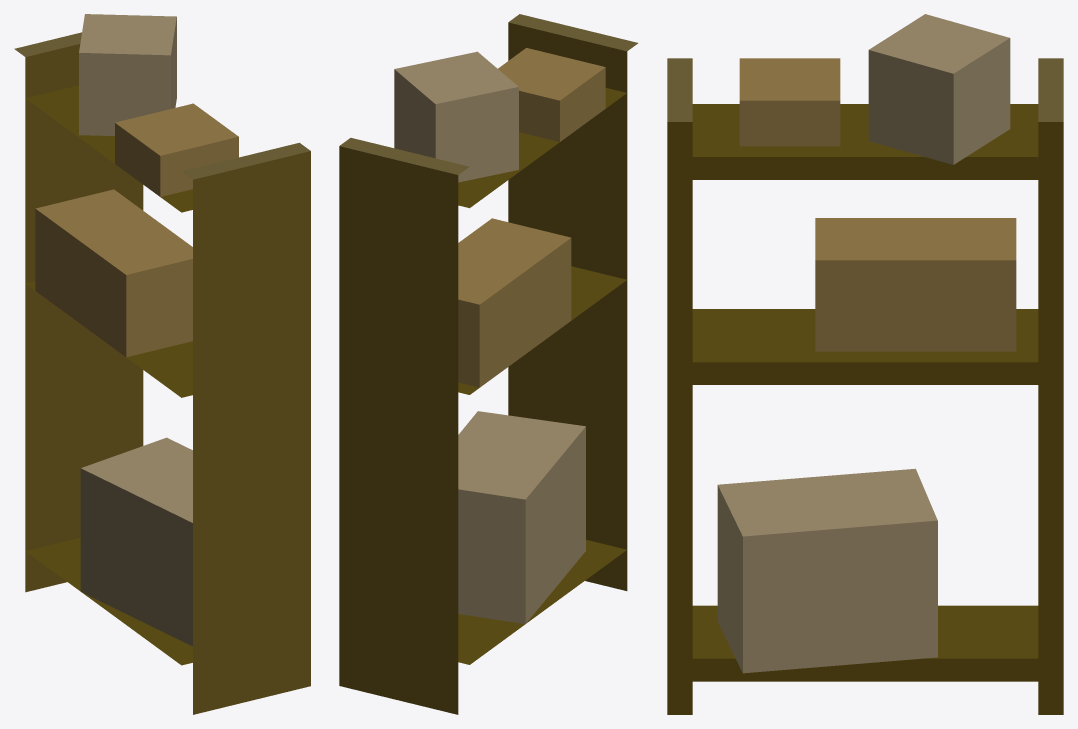
3 renders of one model, left to right at view 1: azimuth 30°, elevation 25°; view 2: azimuth 150°, elevation 25°; view 3: azimuth 270°, elevation 25°, orthographic. The views are drawn at different scales.
Size of the model in its own units: 51 by 224 by 126.
1 material, 1 textured.
